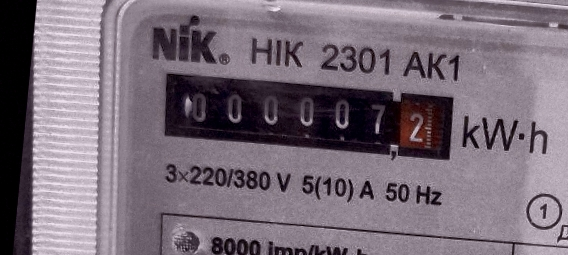0: (257, 90, 283, 130), (186, 88, 211, 125), (329, 95, 353, 133), (295, 94, 318, 132), (223, 90, 246, 127)
2: (404, 109, 428, 147)
7: (364, 99, 389, 139)
screen: (154, 63, 464, 171)
